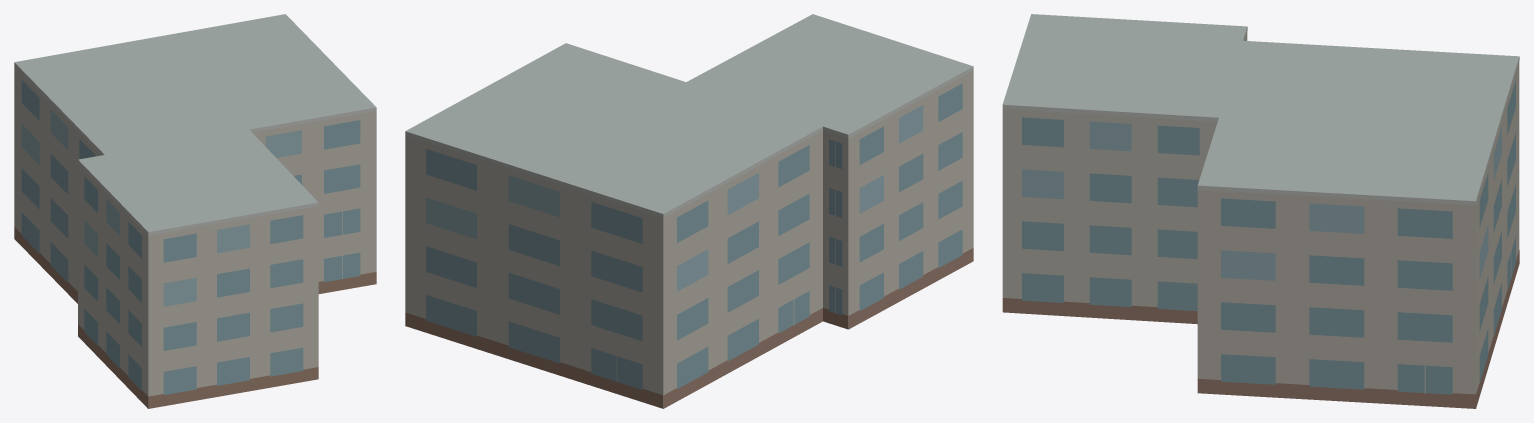
Rendered from residential-a952a087-bed5-42f0-bf72-a4967f9ef900.glb.
The picture shows the model from 3 angles, left to right: view 1: azimuth 30°, elevation 25°; view 2: azimuth 150°, elevation 25°; view 3: azimuth 270°, elevation 25°; orthographic projection. The views are drawn at different scales.
Parts seen in each view (by area): view 1: residential-a952a087-bed5-42f0-bf72-a4967f9ef900.tmp; view 2: residential-a952a087-bed5-42f0-bf72-a4967f9ef900.tmp; view 3: residential-a952a087-bed5-42f0-bf72-a4967f9ef900.tmp.
Boxes of the visible parts, bbox=[...] form: residential-a952a087-bed5-42f0-bf72-a4967f9ef900.tmp: bbox=[14, 14, 376, 408]; residential-a952a087-bed5-42f0-bf72-a4967f9ef900.tmp: bbox=[405, 14, 973, 408]; residential-a952a087-bed5-42f0-bf72-a4967f9ef900.tmp: bbox=[1002, 14, 1519, 408].
Size of the model in its own units: 23.6 by 12.2 by 27.53.
